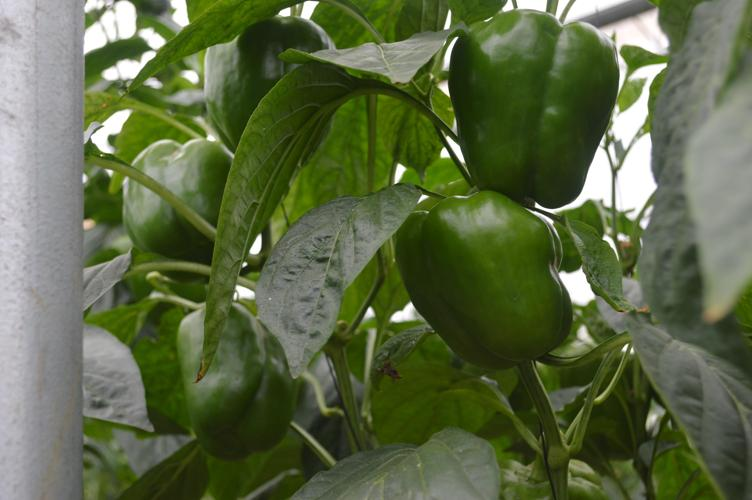BellPepper: (454, 9, 616, 204), (400, 191, 568, 362), (193, 17, 335, 160), (173, 303, 297, 455), (122, 142, 240, 258)
